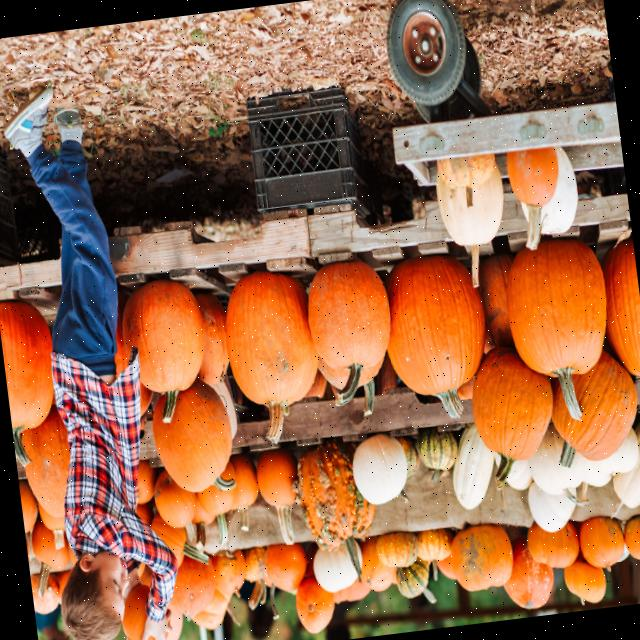pumpkin: (505, 238, 605, 420), (224, 270, 317, 442), (385, 254, 483, 417), (306, 259, 389, 404), (121, 279, 202, 422), (471, 347, 552, 488), (292, 436, 373, 573), (550, 350, 636, 466), (151, 379, 234, 491), (0, 300, 52, 465), (600, 238, 640, 377), (20, 404, 69, 516), (449, 524, 511, 589), (257, 446, 296, 544), (477, 255, 513, 352), (503, 536, 552, 606), (152, 469, 196, 543), (193, 293, 228, 384), (505, 145, 557, 205), (150, 513, 208, 565), (30, 518, 68, 596), (169, 555, 215, 619), (525, 519, 578, 567), (578, 517, 623, 569), (196, 484, 234, 545), (229, 452, 257, 531), (295, 575, 332, 631), (263, 543, 306, 591), (359, 535, 395, 589), (190, 588, 238, 627), (562, 559, 604, 603), (417, 527, 451, 579), (211, 548, 244, 599), (395, 558, 433, 602), (120, 584, 148, 640), (374, 531, 418, 565), (358, 358, 383, 416), (242, 548, 265, 609), (191, 496, 214, 550), (29, 571, 59, 611), (113, 291, 127, 375), (37, 504, 63, 547), (17, 478, 36, 531), (317, 356, 347, 388), (136, 458, 156, 502), (333, 579, 369, 600), (623, 514, 640, 558), (167, 605, 181, 640), (436, 556, 454, 579), (55, 570, 70, 597), (139, 382, 151, 415), (135, 502, 152, 524), (456, 377, 473, 398), (222, 462, 234, 478)
